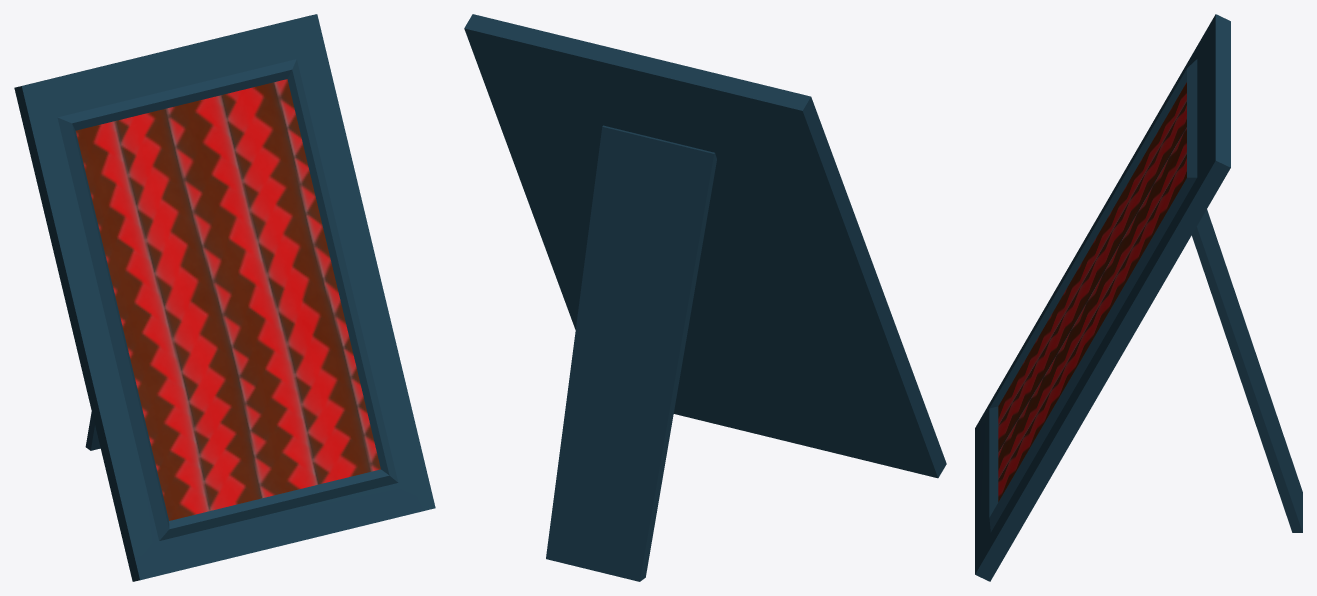
The model's file is MarcoFotos.fbx.
The picture shows the model from 3 angles, left to right: view 1: azimuth 30°, elevation 25°; view 2: azimuth 150°, elevation 25°; view 3: azimuth 270°, elevation 25°; orthographic projection. The views are drawn at different scales.
Visible parts, largest first — view 1: MarcoFoto; view 2: MarcoFoto; view 3: MarcoFoto.
Part boxes in pixels (x1=…): MarcoFoto: x1=14, y1=14, x2=435, y2=581; MarcoFoto: x1=464, y1=14, x2=946, y2=581; MarcoFoto: x1=975, y1=14, x2=1302, y2=581.
Size of the model in its own units: 25.37 by 34.33 by 23.98.
Materials: 2 (2 with a texture image).
